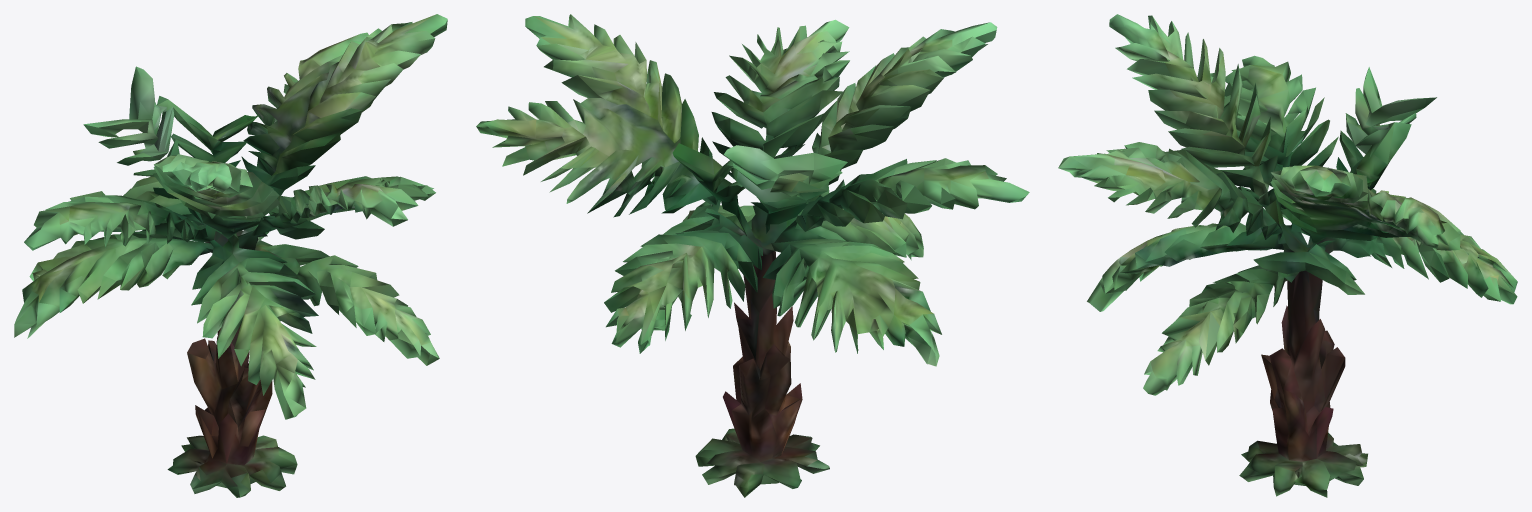
File: f08_palmeira_jovem.glb
3 views of the same model, side by side, from view 1: azimuth 30°, elevation 25°; view 2: azimuth 150°, elevation 25°; view 3: azimuth 270°, elevation 25° (orthographic). The views are drawn at different scales.
Parts seen in each view (by area): view 1: f08_palmeira_jovem; view 2: f08_palmeira_jovem; view 3: f08_palmeira_jovem.
Part boxes in pixels (box(x1,y1,x2,y2)): f08_palmeira_jovem: box(14, 14, 447, 497); f08_palmeira_jovem: box(476, 14, 1029, 497); f08_palmeira_jovem: box(1058, 14, 1517, 497).
Bounding box in the file's own units: 0.6882 × 0.5833 × 0.6071.
1 material, 1 textured.
